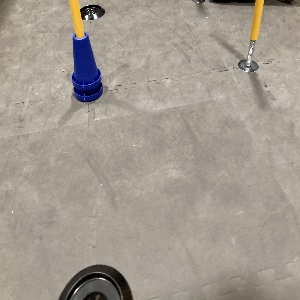Blue_2: (70, 32, 102, 102)
